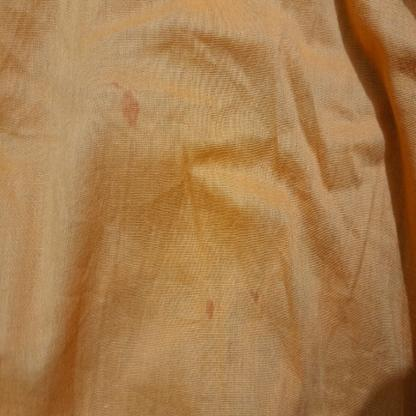spot: (120, 84, 142, 136), (205, 291, 217, 322), (249, 285, 262, 306)
